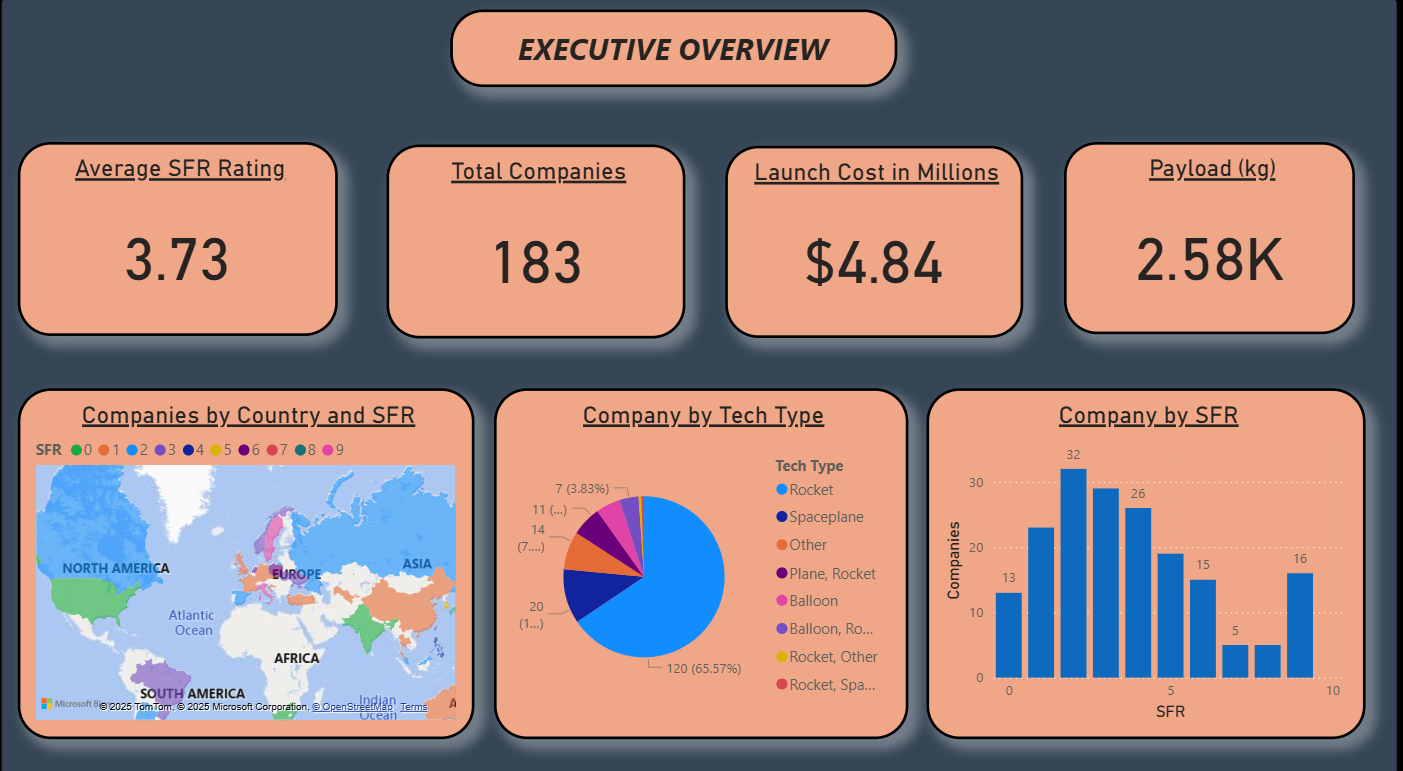

Layout of this report page (visuals, bound fields, positions):
{"tool":"powerbi","page":{"name":"Executive Overview","canvas":[1280,720],"ordinal":0},"visuals":[{"type":"card","title":"Average SFR Rating","fields":{"Values":["Avg(Launch SFR.SFR)"]},"box":[21.8,136.6,290,175.7],"z":0},{"type":"card","title":"Total Companies","fields":{"Values":["Count(Launch SFR.Company)"]},"box":[356.1,138.1,271.4,175.7],"z":1000},{"type":"card","title":"Launch Cost in Millions","fields":{"Values":["Avg(Launch SFR.Launch Cost ($M))"]},"box":[663.2,139.5,270,174.3],"z":2000},{"type":"card","title":"Payload (kg)","fields":{"Values":["Avg(Launch SFR.Payload (kg))"]},"box":[970.3,136.6,264.3,174.3],"z":3000},{"type":"filledMap","title":"Companies by Country and SFR","fields":{"Category":["Launch SFR.Country"],"Series":["Launch SFR.SFR"]},"box":[21.8,359.5,414.3,318.6],"z":4000},{"type":"pieChart","title":"Company by Tech Type","fields":{"Category":["Launch SFR.Tech Type"],"Y":["CountNonNull(Launch SFR.Company)"]},"box":[453.2,359.5,375.7,318.6],"z":5000},{"type":"columnChart","title":"Company by SFR","fields":{"Category":["Launch SFR.SFR"],"Y":["CountNonNull(Launch SFR.Company)"]},"box":[846.1,359.5,398.6,318.6],"z":6000},{"type":"textbox","box":[414.3,15.7,405.7,70],"z":7000}]}

Visuals, with their boxes in screenshot pixels (x1, y1, x2, y2), scaled from the page's 1280x720 canvas onto the 1403x771 screenshot:
"Average SFR Rating" card: [x1=24, y1=146, x2=342, y2=334]
"Total Companies" card: [x1=390, y1=148, x2=688, y2=336]
"Launch Cost in Millions" card: [x1=727, y1=149, x2=1023, y2=336]
"Payload (kg)" card: [x1=1064, y1=146, x2=1353, y2=333]
"Companies by Country and SFR" filledMap: [x1=24, y1=385, x2=478, y2=726]
"Company by Tech Type" pieChart: [x1=497, y1=385, x2=909, y2=726]
"Company by SFR" columnChart: [x1=927, y1=385, x2=1364, y2=726]
textbox: [x1=454, y1=17, x2=899, y2=92]
